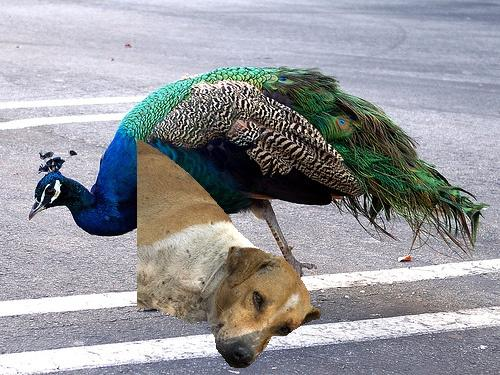tampered: (138, 139, 321, 368)
